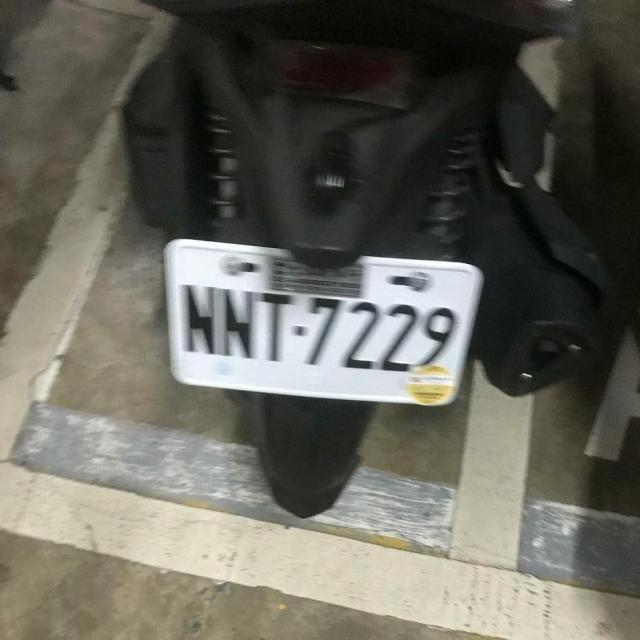W: (150, 232, 487, 414)
